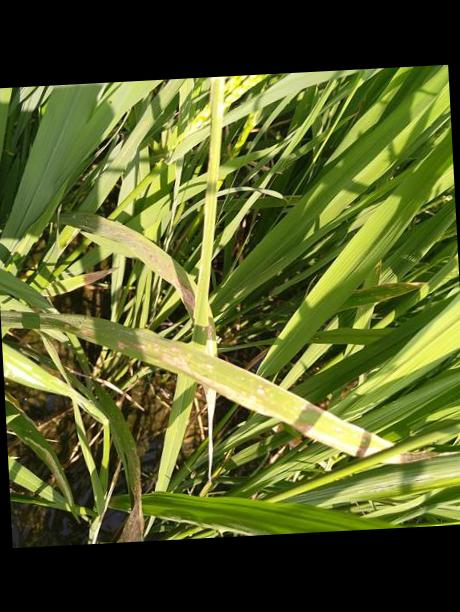Leaf Streak: (0, 311, 391, 457), (58, 213, 194, 323), (87, 378, 143, 542), (203, 386, 215, 483), (389, 447, 460, 463), (202, 312, 219, 355)
